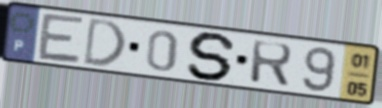0: (143, 28, 183, 73)
9: (299, 45, 339, 95)
D: (80, 15, 128, 68)
E: (36, 11, 87, 66)
R: (248, 38, 295, 89)
S: (185, 30, 240, 82)
